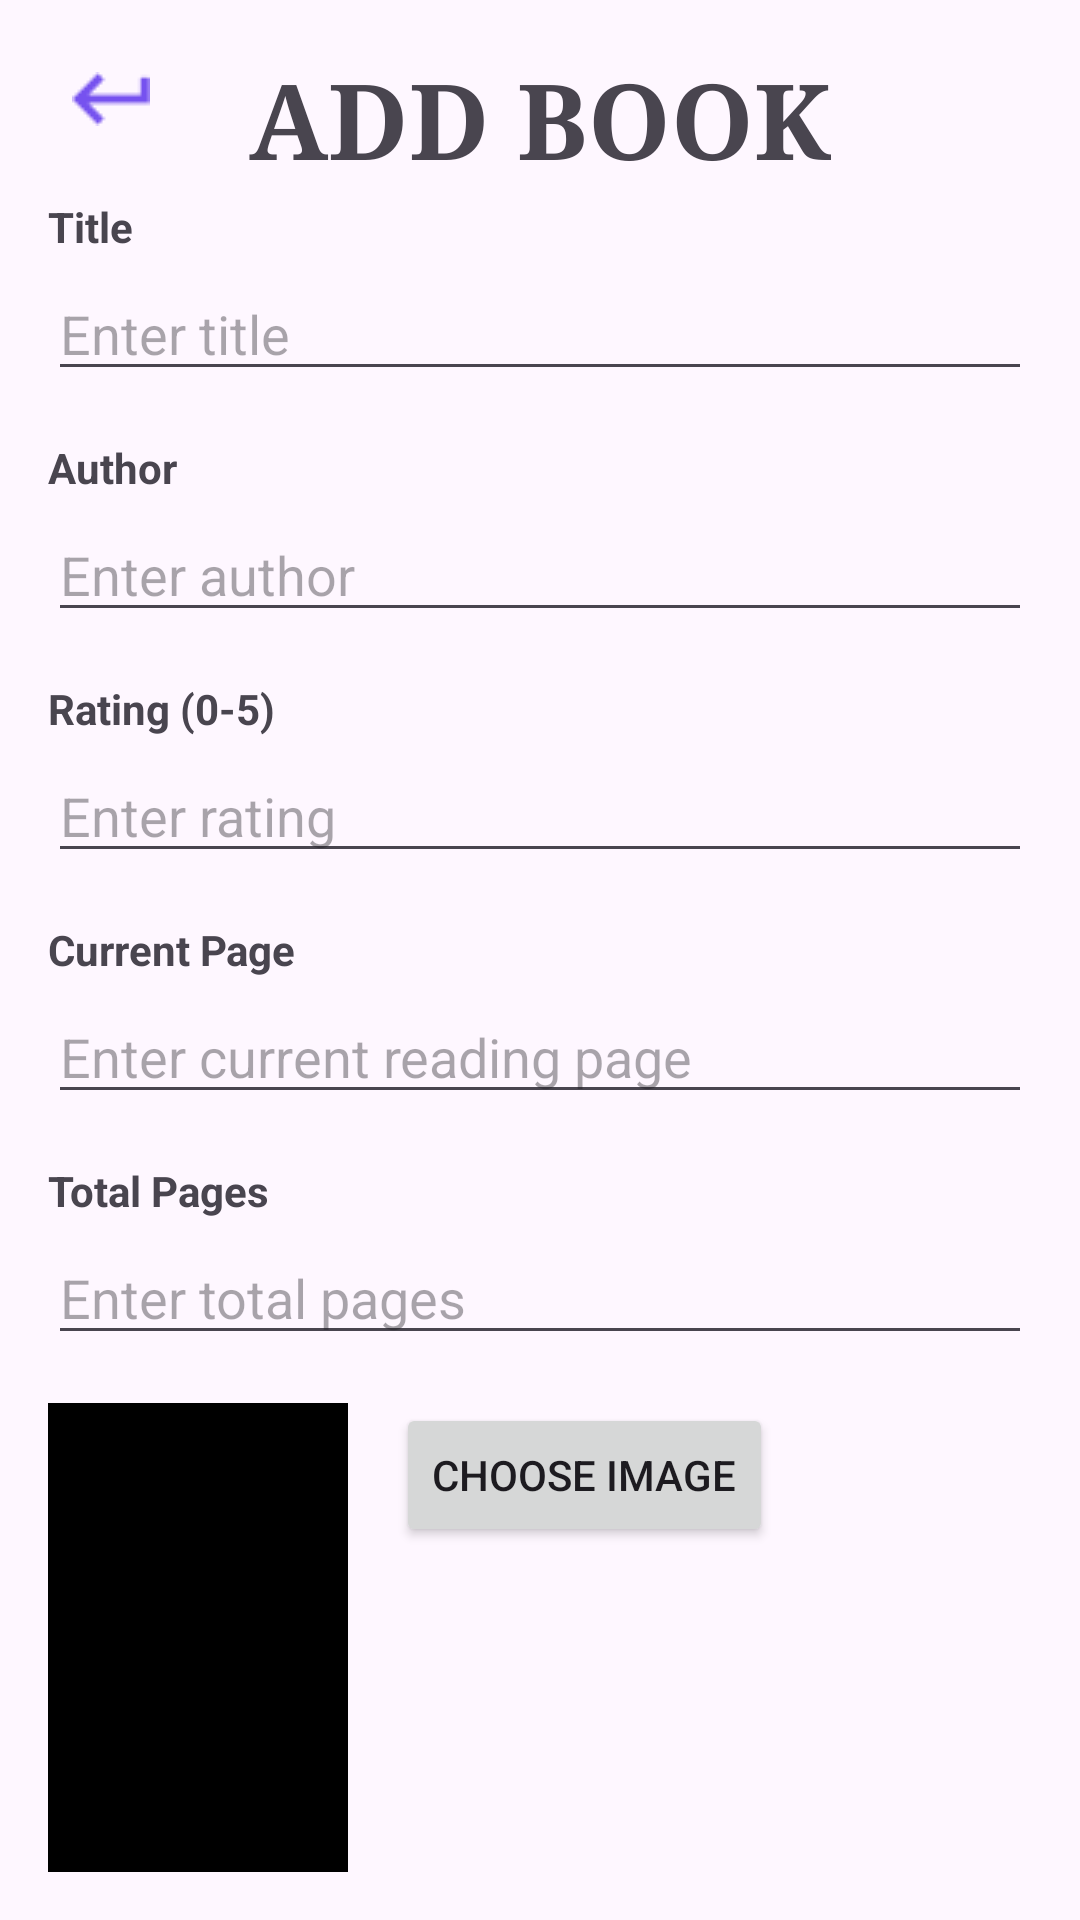

Screen size 1080w x 1920h. Icon name, then its center in pixels as (x,y):
arrow left: (111,99)
